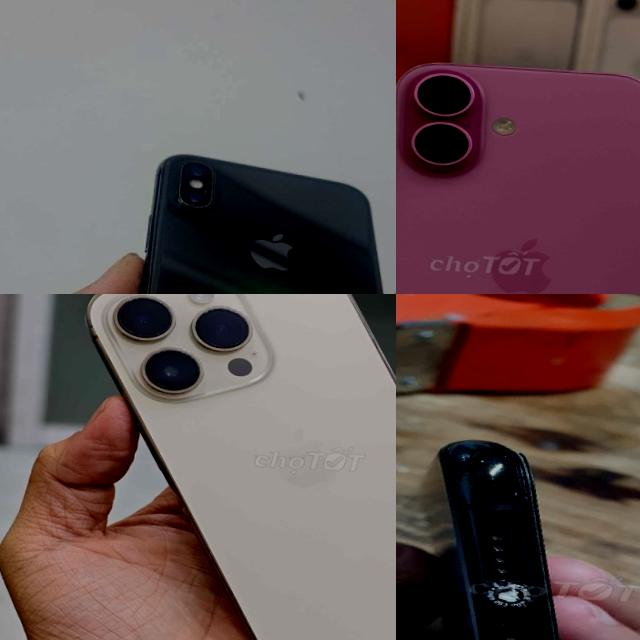gen_11: (425, 442, 559, 640)
gen_14: (64, 294, 396, 640)
gen_16: (396, 45, 640, 294)
gen_x_xs: (143, 155, 382, 294)
scratch: (464, 458, 534, 546)
